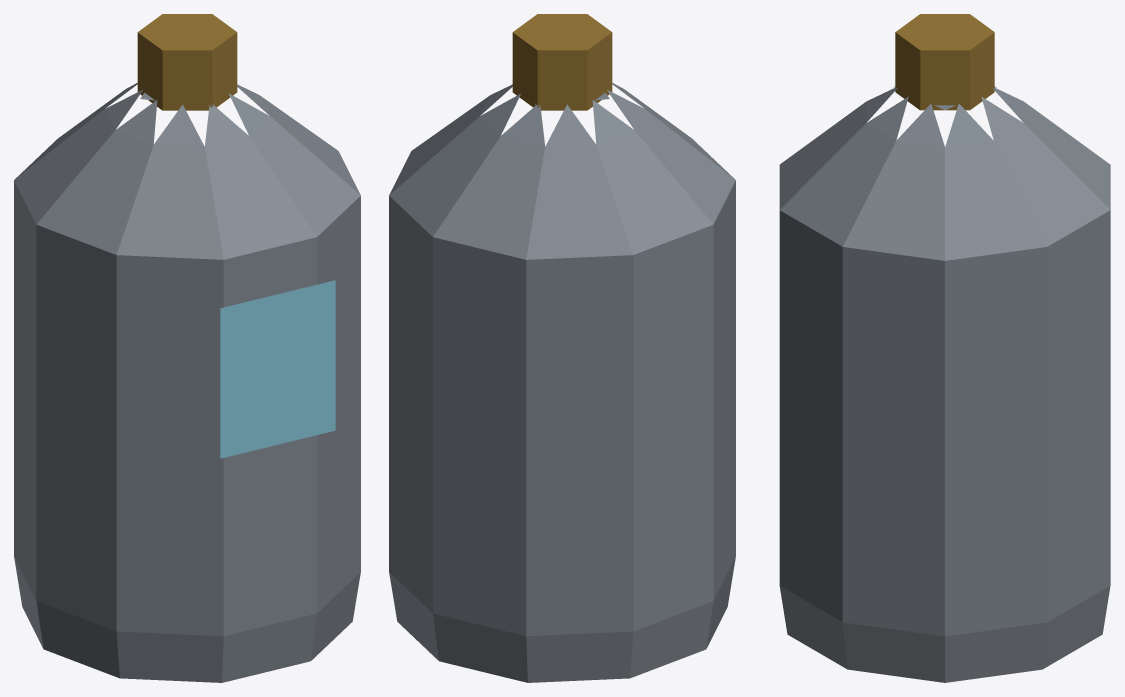
The model's file is projector-canister-cryo.lod.glb.
3 views of the same model, side by side, from view 1: azimuth 30°, elevation 25°; view 2: azimuth 150°, elevation 25°; view 3: azimuth 270°, elevation 25° (orthographic).
Parts seen in each view (by area): view 1: m; view 2: m; view 3: m.
Part boxes in pixels (x1=…): m: x1=14, y1=14, x2=360, y2=682; m: x1=389, y1=14, x2=735, y2=682; m: x1=779, y1=14, x2=1110, y2=682.
Bounding box in the file's own units: 0.0375 × 0.069 × 0.0373.
